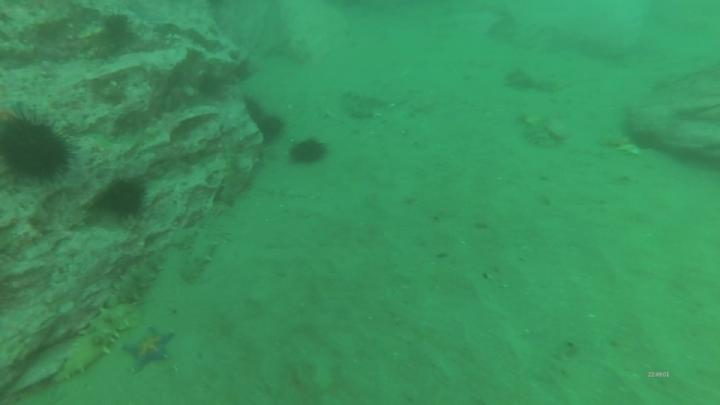echinus: (1, 113, 80, 187), (102, 176, 151, 224), (287, 137, 331, 168), (102, 12, 135, 43), (259, 113, 286, 146), (197, 73, 225, 103), (629, 128, 662, 153), (242, 96, 264, 126)
holothurian: (52, 301, 138, 387), (105, 251, 169, 310), (178, 235, 225, 288), (340, 83, 391, 111)
starfish: (126, 326, 177, 373)
